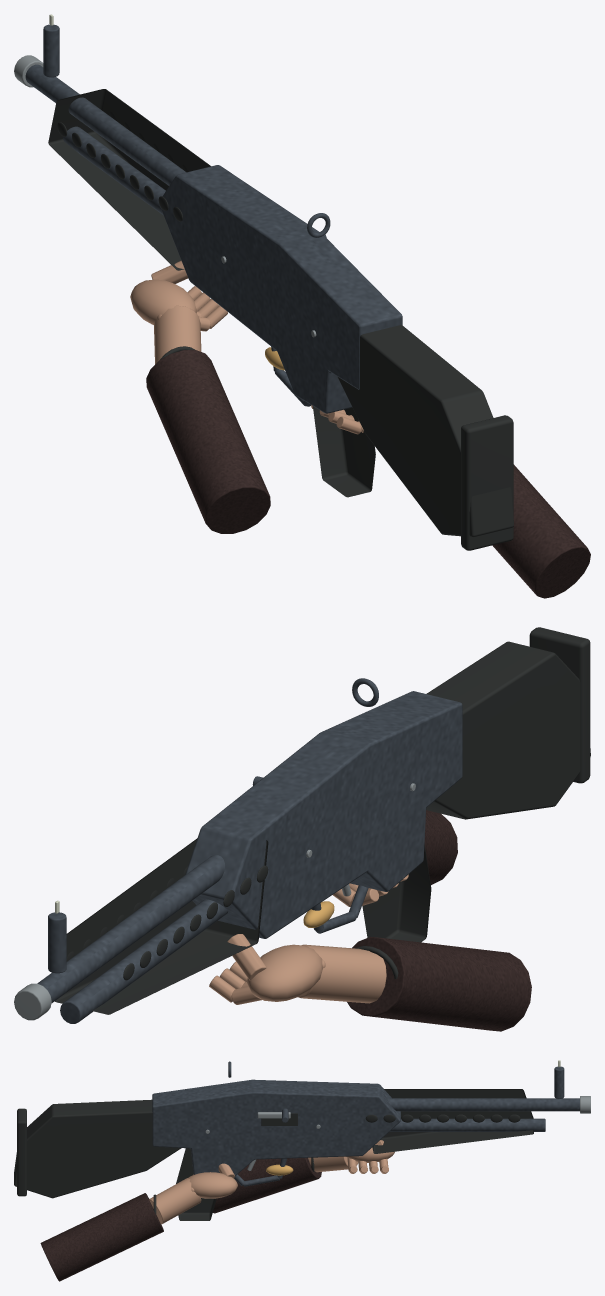
The model's file is spas12.glb.
The picture shows the model from 3 angles, top to bottom: view 1: azimuth 30°, elevation 25°; view 2: azimuth 150°, elevation 25°; view 3: azimuth 270°, elevation 25°; orthographic projection. The views are drawn at different scales.
Visible parts, largest first — view 1: spas12__BODY, spas12__HAND_L, spas12__HAND_R; view 2: spas12__BODY, spas12__HAND_L, spas12__HAND_R, spas12__SHELL; view 3: spas12__BODY, spas12__HAND_R, spas12__HAND_L.
Boxes of the visible parts, x1,y1,x2,y2 form: spas12__BODY: (14,14,513,550); spas12__HAND_L: (130,260,270,533); spas12__HAND_R: (311,405,590,598); spas12__BODY: (14,627,590,1023); spas12__HAND_L: (209,934,531,1031); spas12__HAND_R: (333,810,457,906); spas12__SHELL: (303,901,334,927); spas12__BODY: (14,1060,590,1220); spas12__HAND_R: (40,1163,237,1281); spas12__HAND_L: (213,1140,394,1213).
Size of the model in its own units: 0.3294 by 0.3781 by 1.04.
Materials: 7 (2 with a texture image).
